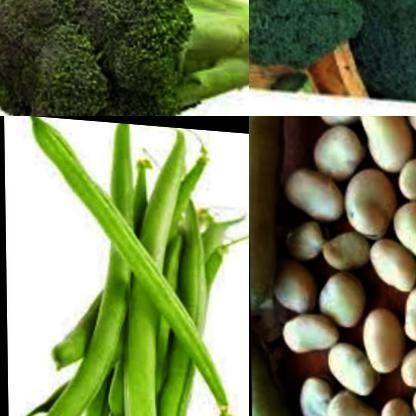beans: (28, 116, 249, 416), (281, 116, 416, 416), (249, 304, 357, 416), (249, 116, 292, 316)
broccoli: (0, 0, 249, 116), (249, 0, 367, 93), (338, 0, 416, 111)
